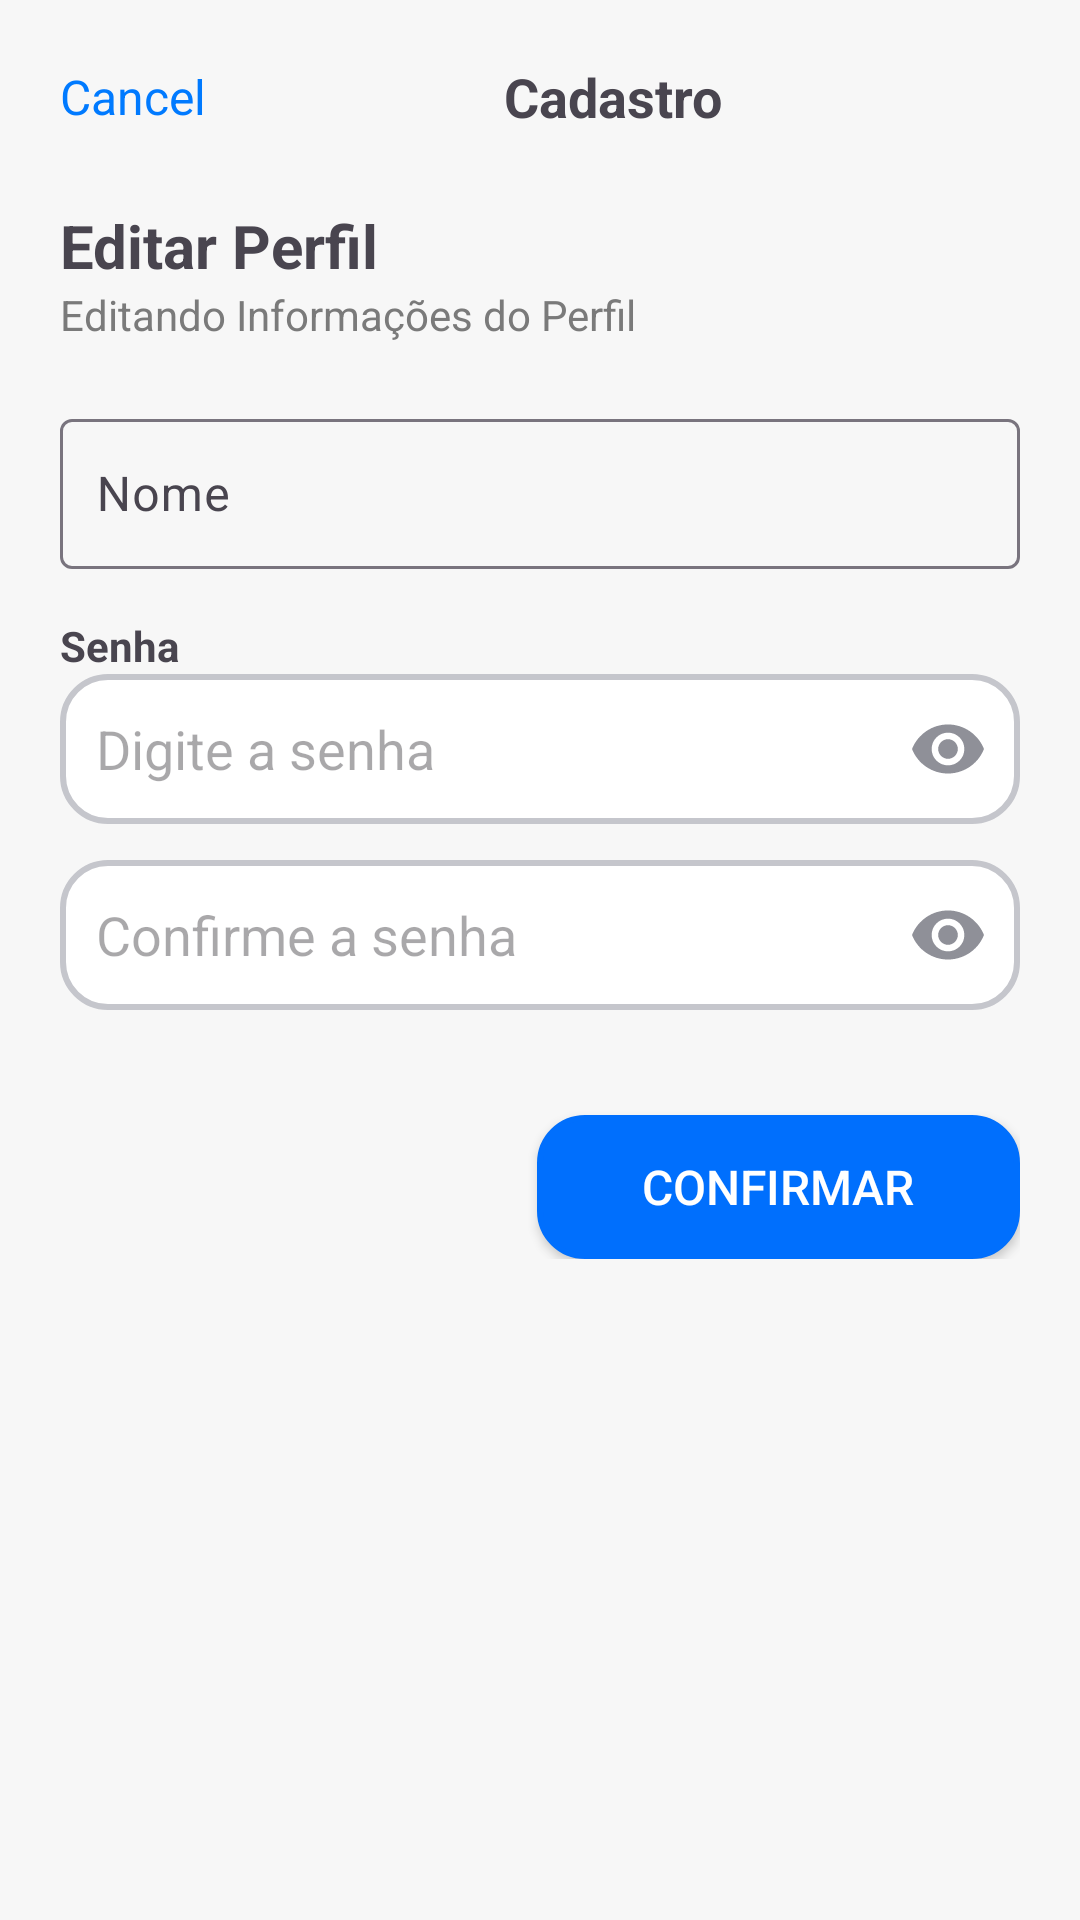

Icon click points for this 1080 × 1920 phone screenshot, format [x,y]:
eyees on: [948,749], [948,935]
